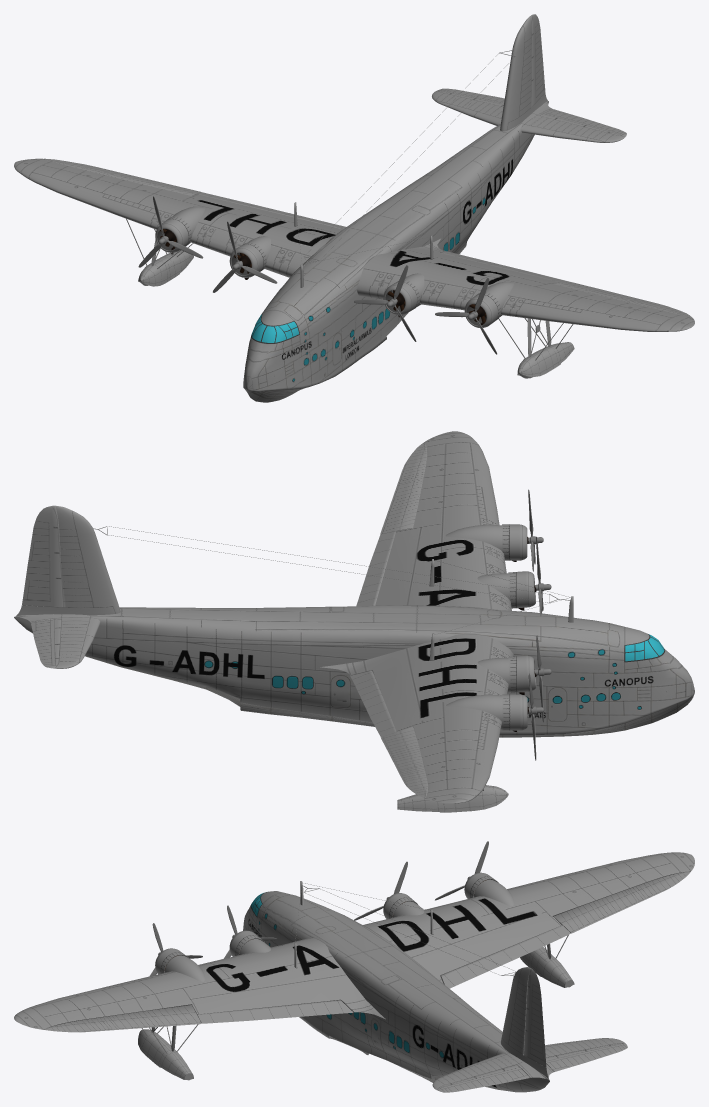
File: hidroaviao.glb
3 renders of one model, top to bottom at view 1: azimuth 30°, elevation 25°; view 2: azimuth 150°, elevation 25°; view 3: azimuth 270°, elevation 25°, orthographic. The views are drawn at different scales.
Visible parts, largest first — view 1: Line34-FACES (×2), Line61-FACES, Line64-FACES, Ellipse14-FACES, Circle12-FACES, Line51-FACES, Circle11-FACES, Line57-FACES, rul_napr-FACES, eleron_left01-FACES, eleron_left-FACES, rul_vis_left-FACES (+4 smaller); view 2: Line34-FACES (×2), Line64-FACES, Line61-FACES, Ellipse14-FACES, rul_napr-FACES, eleron_left-FACES, Circle11-FACES, eleron_left01-FACES, Line57-FACES, zakr_left01-FACES, zakr_left-FACES, rul_vis_left01-FACES (+6 smaller); view 3: Line34-FACES, Line61-FACES, Line64-FACES, eleron_left01-FACES, eleron_left-FACES, Ellipse14-FACES, zakr_left01-FACES, zakr_left-FACES, rul_napr-FACES, Line51-FACES, Circle12-FACES, Line57-FACES (+7 smaller).
Boxes of the visible parts, <box> form: Line34-FACES (×2): <box>243,101,548,402</box>; Line61-FACES: <box>357,238,694,331</box>; Line64-FACES: <box>14,158,344,277</box>; Ellipse14-FACES: <box>500,16,547,131</box>; Circle12-FACES: <box>521,103,624,142</box>; Line51-FACES: <box>517,342,574,378</box>; Circle11-FACES: <box>432,90,503,125</box>; Line57-FACES: <box>138,250,193,286</box>; rul_napr-FACES: <box>531,14,545,106</box>; eleron_left01-FACES: <box>44,158,201,195</box>; eleron_left-FACES: <box>554,282,690,316</box>; rul_vis_left-FACES: <box>540,109,626,136</box>; Line34-FACES (×2): <box>14,605,694,737</box>; Line64-FACES: <box>320,633,513,803</box>; Line61-FACES: <box>375,431,511,610</box>; Ellipse14-FACES: <box>16,505,120,616</box>; rul_napr-FACES: <box>22,505,63,607</box>; eleron_left-FACES: <box>380,442,427,534</box>; Circle11-FACES: <box>20,614,100,668</box>; eleron_left01-FACES: <box>381,727,428,798</box>; Line57-FACES: <box>397,785,508,812</box>; zakr_left01-FACES: <box>350,670,396,737</box>; zakr_left-FACES: <box>356,531,395,606</box>; rul_vis_left01-FACES: <box>31,619,61,668</box>; Line34-FACES: <box>243,891,549,1092</box>; Line61-FACES: <box>14,938,385,1029</box>; Line64-FACES: <box>363,852,694,983</box>; eleron_left01-FACES: <box>553,871,690,933</box>; eleron_left-FACES: <box>43,1005,201,1032</box>; Ellipse14-FACES: <box>500,967,548,1079</box>; zakr_left01-FACES: <box>440,925,570,988</box>; zakr_left-FACES: <box>197,1000,353,1023</box>; rul_napr-FACES: <box>524,968,546,1067</box>; Line51-FACES: <box>138,1029,193,1080</box>; Circle12-FACES: <box>432,1053,545,1090</box>; Line57-FACES: <box>520,947,574,987</box>.
Size of the model in its own units: 25.49 by 10.14 by 30.37.
Materials: 19 (14 with a texture image).
